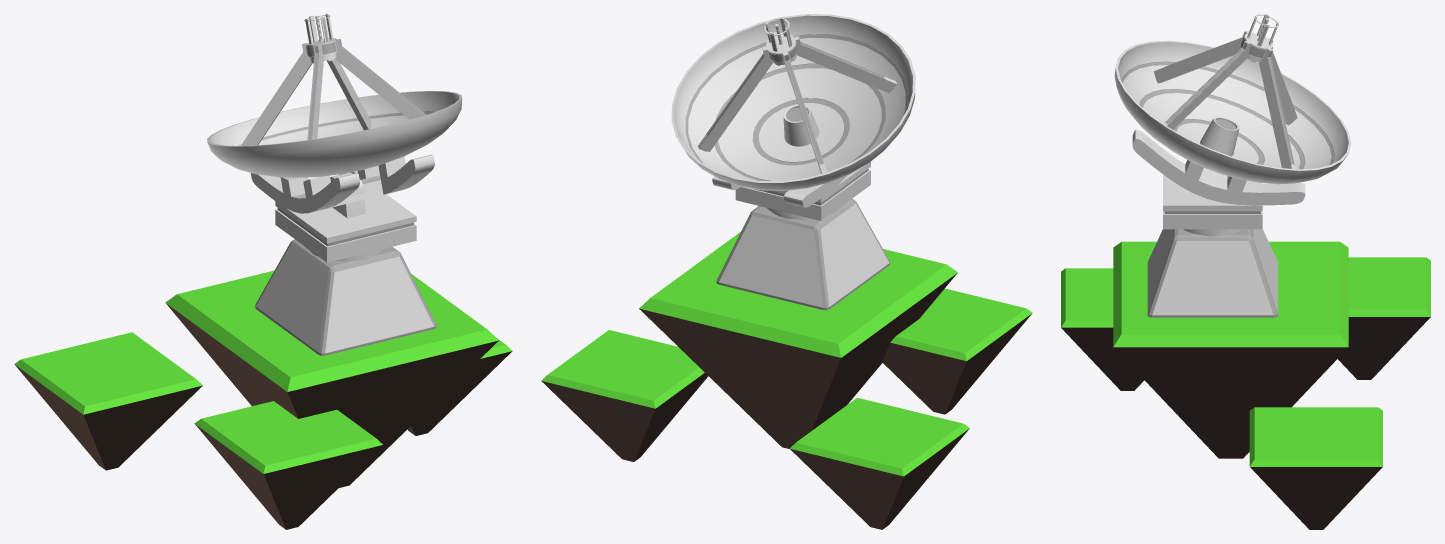
Rendered from radio.glb.
The picture shows the model from 3 angles, left to right: view 1: azimuth 30°, elevation 25°; view 2: azimuth 150°, elevation 25°; view 3: azimuth 270°, elevation 25°; orthographic projection. The views are drawn at different scales.
Visible parts, largest first — view 1: Radio; view 2: Radio; view 3: Radio.
Part boxes in pixels (x1,y1,x2,y2): Radio: [14, 14, 512, 529]; Radio: [541, 14, 1032, 529]; Radio: [1061, 14, 1430, 529].
Bounding box in the file's own units: 13.1 × 14.5 × 10.77.
